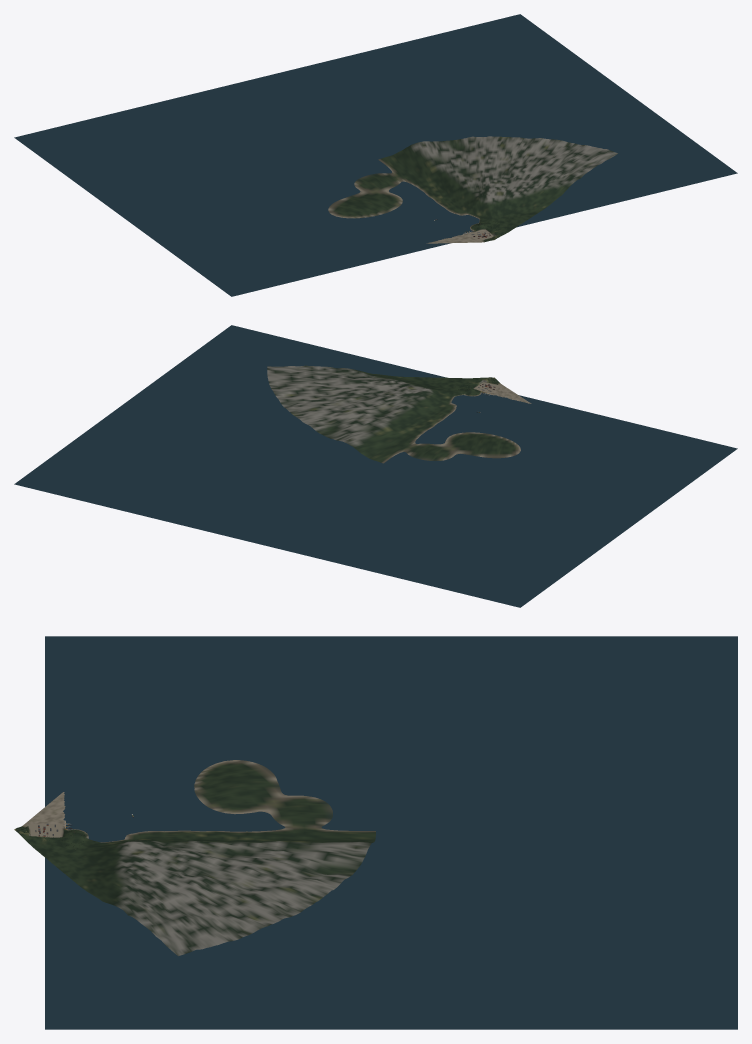
File: environment.glb
The picture shows the model from 3 angles, top to bottom: view 1: azimuth 30°, elevation 25°; view 2: azimuth 150°, elevation 25°; view 3: azimuth 270°, elevation 25°; orthographic projection. The views are drawn at different scales.
Visible parts, largest first — view 1: Sea, Valley; view 2: Sea, Valley; view 3: Sea, Valley.
Boxes of the visible parts, x1,y1,x2,y2 form: Sea: (14,14,737,296); Valley: (328,136,617,243); Sea: (14,325,737,607); Valley: (267,365,531,463); Sea: (45,636,737,1029); Valley: (14,760,375,956).
Size of the model in its own units: 18000 by 385 by 14000.
